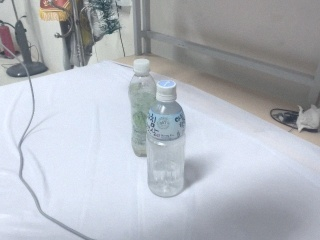bottle: (146, 79, 189, 199), (127, 56, 158, 158)
